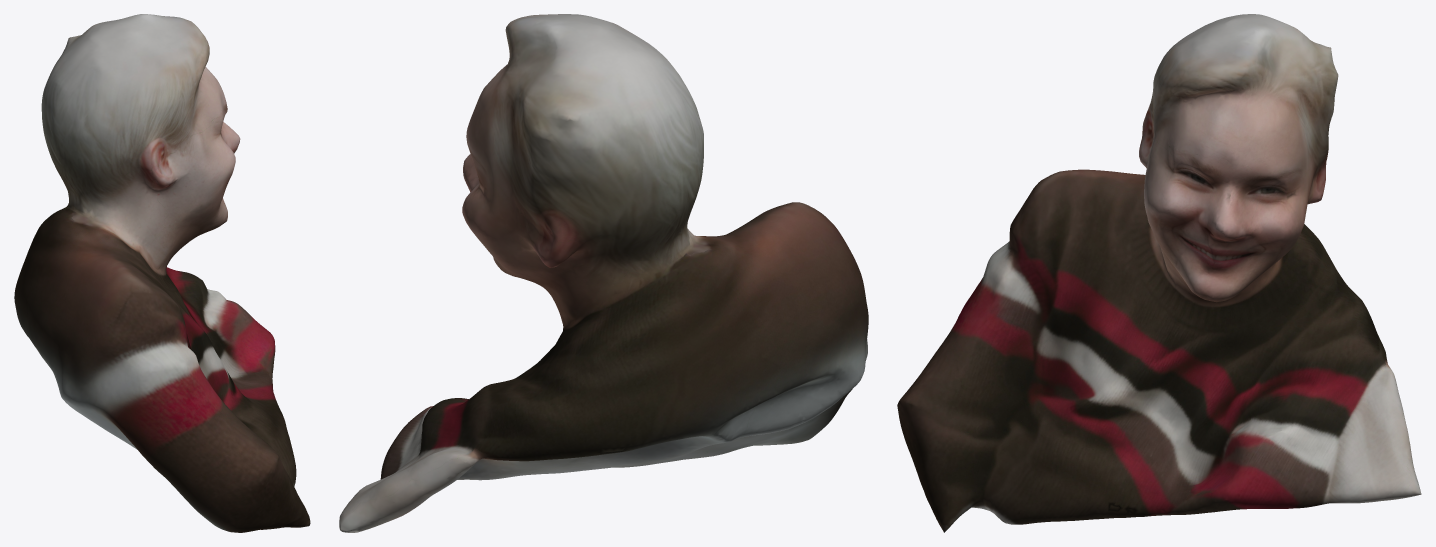
The picture shows the model from 3 angles, left to right: view 1: azimuth 30°, elevation 25°; view 2: azimuth 150°, elevation 25°; view 3: azimuth 270°, elevation 25°; orthographic projection. The views are drawn at different scales.
Visible parts, largest first — view 1: Mesh_0; view 2: Mesh_0; view 3: Mesh_0.
Boxes of the visible parts, x1=… form: Mesh_0: x1=14, y1=14, x2=310, y2=532; Mesh_0: x1=339, y1=14, x2=868, y2=532; Mesh_0: x1=897, y1=14, x2=1421, y2=532.
Bounding box in the file's own units: 83.77 × 120 × 117.
Materials: 1 (1 with a texture image).
